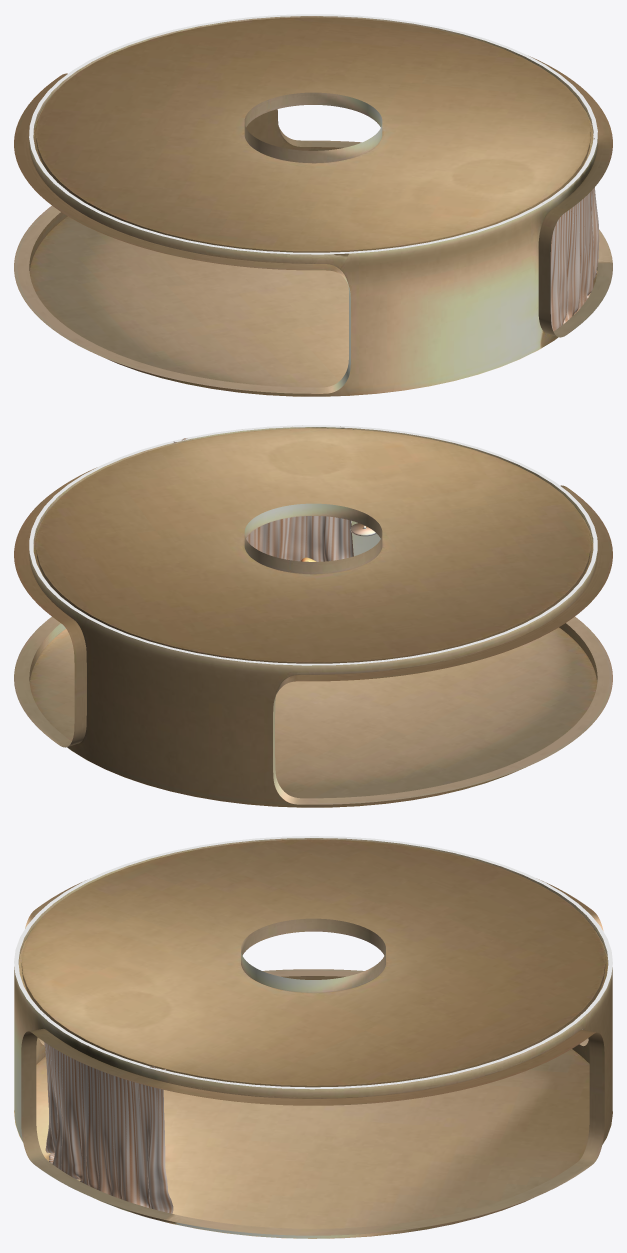
Rendered from environment1.glb.
The picture shows the model from 3 angles, top to bottom: view 1: azimuth 30°, elevation 25°; view 2: azimuth 150°, elevation 25°; view 3: azimuth 270°, elevation 25°; orthographic projection. The views are drawn at different scales.
Visible parts, largest first — view 1: Enviro1, Cotina; view 2: Enviro1, Cotina; view 3: Enviro1, Cotina.
Boxes of the visible parts, box(x1,y1,x2,y2) form: Enviro1: box(14, 14, 612, 396); Cotina: box(550, 133, 599, 331); Enviro1: box(14, 425, 612, 807); Cotina: box(173, 426, 353, 561); Enviro1: box(14, 836, 612, 1238); Cotina: box(44, 1042, 173, 1213).
Size of the model in its own units: 22.31 by 6.36 by 21.19.
Materials: 3 (3 with a texture image).
